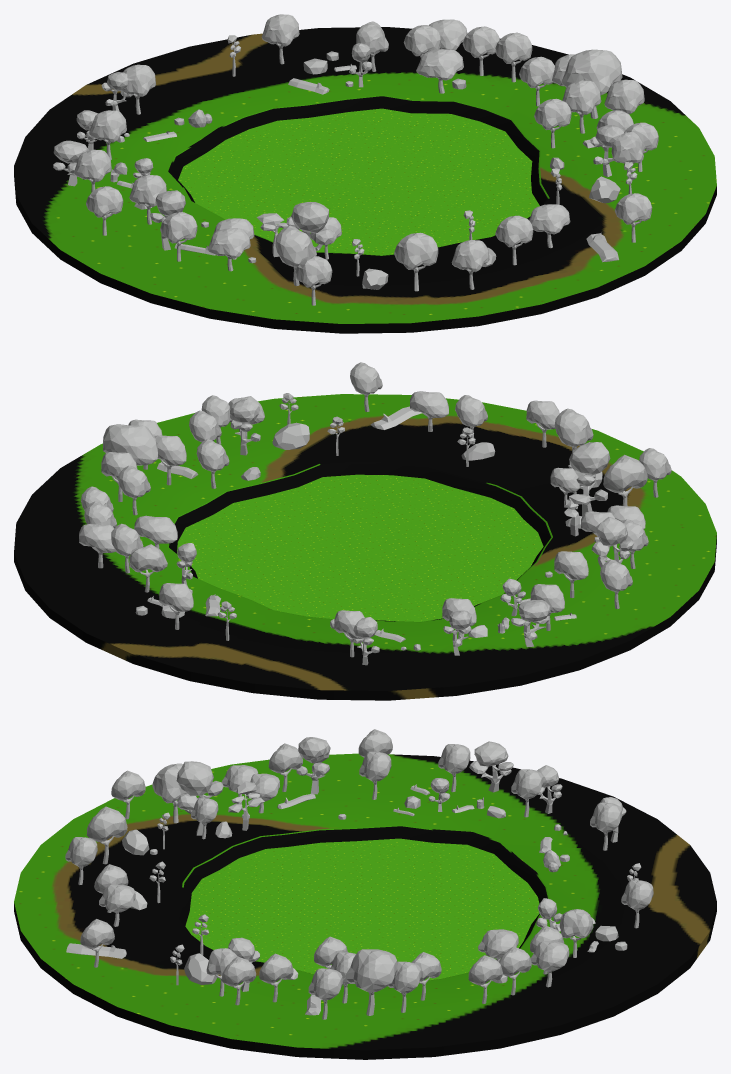
The model's file is BossStage1.fbx.
3 renders of one model, top to bottom at view 1: azimuth 30°, elevation 25°; view 2: azimuth 150°, elevation 25°; view 3: azimuth 270°, elevation 25°, orthographic.
Visible parts, largest first — view 1: Tube001, Plane001, Tree_03_LOD037, Tree_03_LOD027, Tree_01_LOD016, Tree_03_LOD022, Tree_03_LOD010, Tree_03_LOD011, Tree_03_LOD023, Tree_03_LOD036, Tree_03_LOD039, Tree_03_LOD017 (+27 smaller); view 2: Tube001, Plane001, Tree_03_LOD037, Tree_01_LOD016, Tree_03_LOD022, Tree_01_LOD015, Tree_03_LOD027, Tree_01_LOD013, Tree_01_LOD011, Tree_03_LOD010, Tree_03_LOD012, Tree_03_LOD039 (+27 smaller); view 3: Tube001, Plane001, Tree_03_LOD037, Tree_01_LOD016, Tree_01_LOD013, Tree_03_LOD027, Tree_01_LOD015, Tree_03_LOD038, Tree_03_LOD022, Tree_03_LOD036, Tree_03_LOD012, Tree_03_LOD039 (+31 smaller).
Part boxes in pixels (left/top/right/bottom): Tube001: left=14, top=27, right=716, bottom=333; Plane001: left=178, top=108, right=539, bottom=255; Tree_03_LOD037: left=561, top=49, right=622, bottom=118; Tree_03_LOD027: left=394, top=232, right=438, bottom=291; Tree_01_LOD016: left=286, top=202, right=334, bottom=250; Tree_03_LOD022: left=275, top=225, right=316, bottom=286; Tree_03_LOD010: left=416, top=49, right=463, bottom=93; Tree_03_LOD011: left=562, top=80, right=601, bottom=133; Tree_03_LOD023: left=207, top=228, right=250, bottom=271; Tree_03_LOD036: left=604, top=79, right=644, bottom=114; Tree_03_LOD039: left=529, top=204, right=570, bottom=248; Tree_03_LOD017: left=261, top=14, right=299, bottom=64; Tube001: left=14, top=394, right=716, bottom=700; Plane001: left=177, top=474, right=543, bottom=621; Tree_03_LOD037: left=103, top=424, right=158, bottom=465; Tree_01_LOD016: left=569, top=442, right=610, bottom=516; Tree_03_LOD022: left=603, top=454, right=647, bottom=506; Tree_01_LOD015: left=591, top=517, right=633, bottom=563; Tree_03_LOD027: left=554, top=408, right=593, bottom=452; Tree_01_LOD013: left=511, top=600, right=550, bottom=647; Tree_01_LOD011: left=230, top=398, right=260, bottom=455; Tree_03_LOD010: left=134, top=515, right=177, bottom=548; Tree_03_LOD012: left=129, top=544, right=167, bottom=592; Tree_03_LOD039: left=410, top=391, right=448, bottom=431; Tube001: left=14, top=753, right=716, bottom=1059; Plane001: left=185, top=838, right=539, bottom=980; Tree_03_LOD037: left=346, top=949, right=397, bottom=1015; Tree_01_LOD016: left=176, top=761, right=223, bottom=835; Tree_01_LOD013: left=469, top=741, right=513, bottom=792; Tree_03_LOD027: left=86, top=806, right=127, bottom=864; Tree_01_LOD015: left=296, top=737, right=330, bottom=794; Tree_03_LOD038: left=530, top=941, right=569, bottom=987; Tree_03_LOD022: left=152, top=763, right=196, bottom=823; Tree_03_LOD036: left=308, top=968, right=342, bottom=1019; Tree_03_LOD012: left=559, top=909, right=593, bottom=957; Tree_03_LOD039: left=99, top=884, right=135, bottom=926.
Size of what is drawn, in the model's own units: 8000 by 1004 by 8000.
